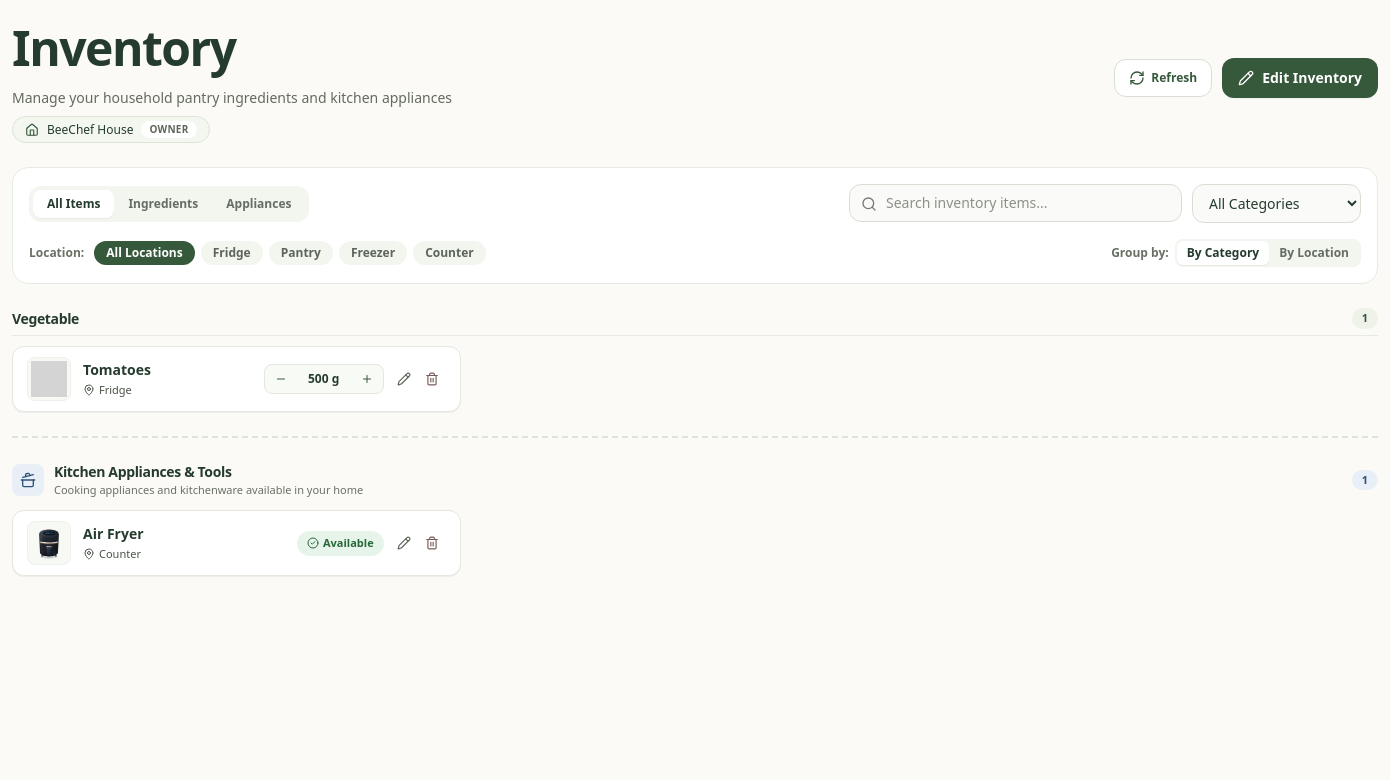
Test: InventoryPage UI and API integration › renders existing inventory items and filters by type, search, and location
Expected: the heading "Tomatoes" is shown, 83,360 -> 151,379
Expected: the heading "Air Fryer" is shown, 83,524 -> 144,543
Note: Filter by Appliances tab
Click the tab "Appliances": click(259, 204) 212,190 -> 306,218
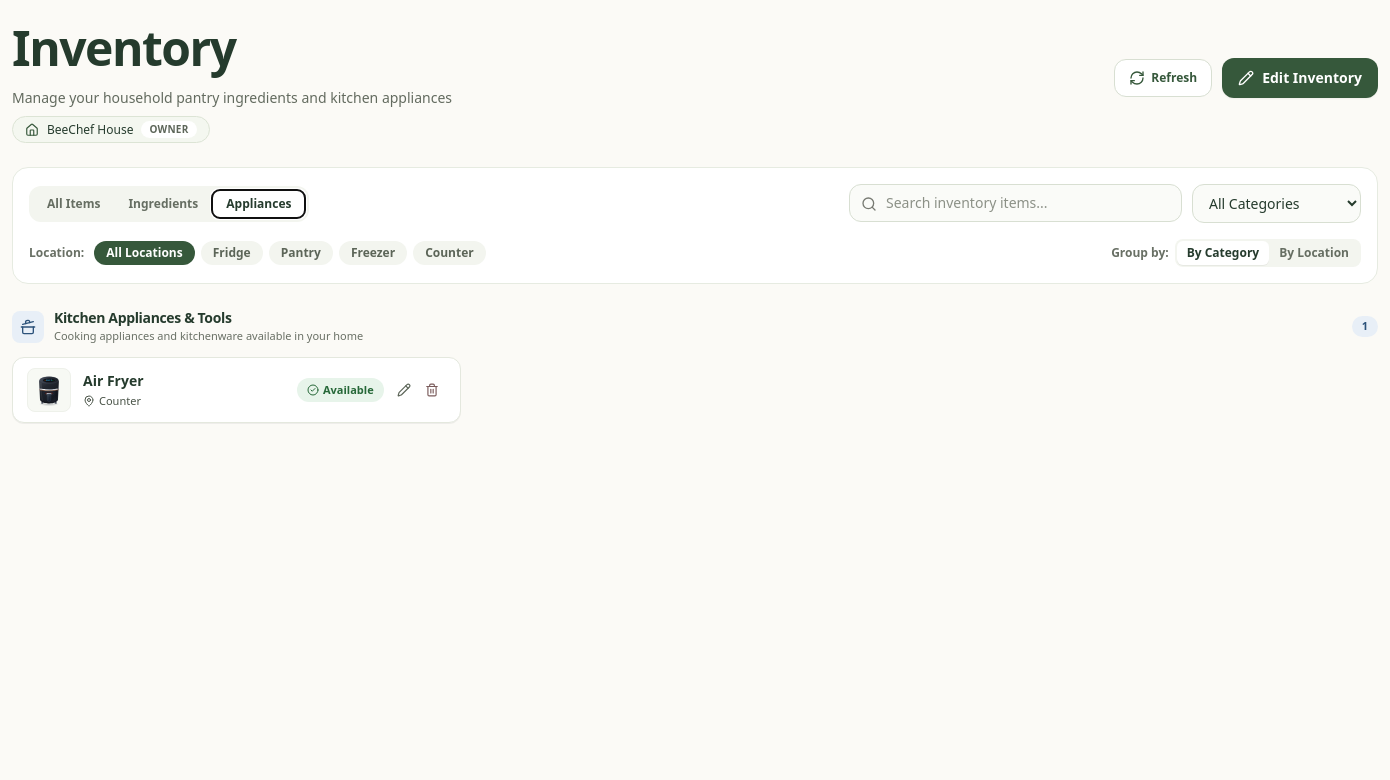
Expected: the heading "Air Fryer" is shown, 83,371 -> 144,390
Now the heading "Tomatoes" is gone
Note: Back to All Items tab
Click the tab "All Items": click(74, 204) 33,190 -> 114,218
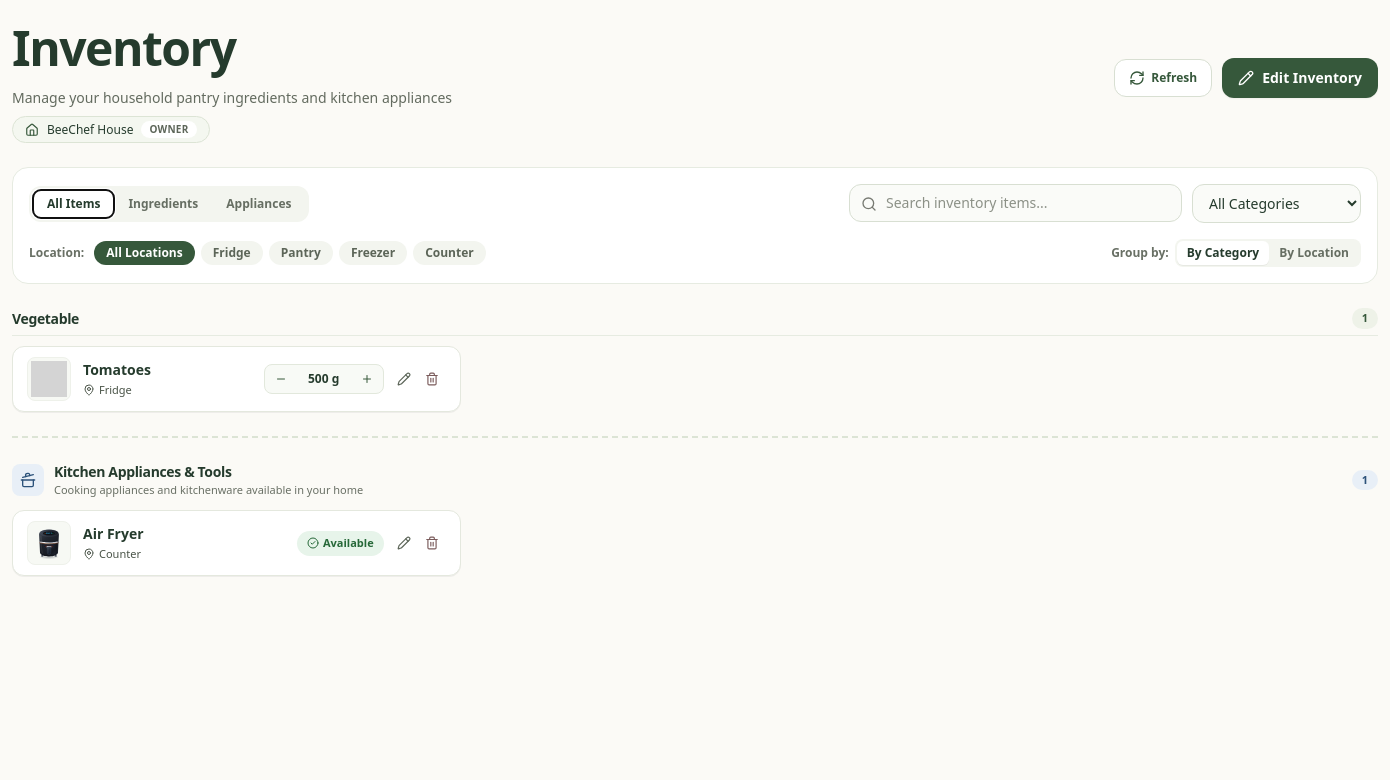
Now the heading "Tomatoes" is shown, box 83,360 -> 151,379
Note: Filter by search input
In the field labelled "Search inventory items": (1016, 203) 849,184 -> 1182,222, type "tom"
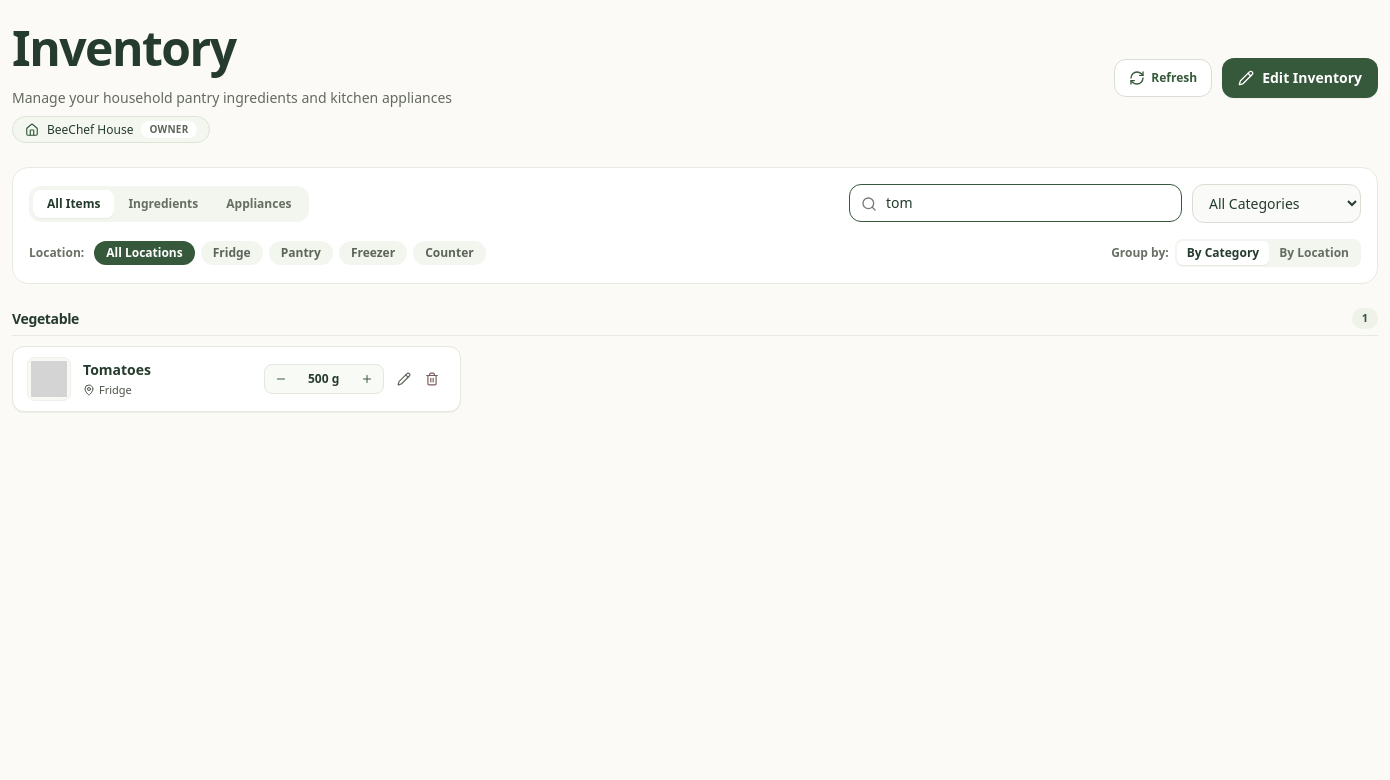
Now the heading "Tomatoes" is shown, box 83,360 -> 151,379
Now the heading "Air Fryer" is gone
Clear the field named "Search inventory items": (1016, 203) 849,184 -> 1182,222
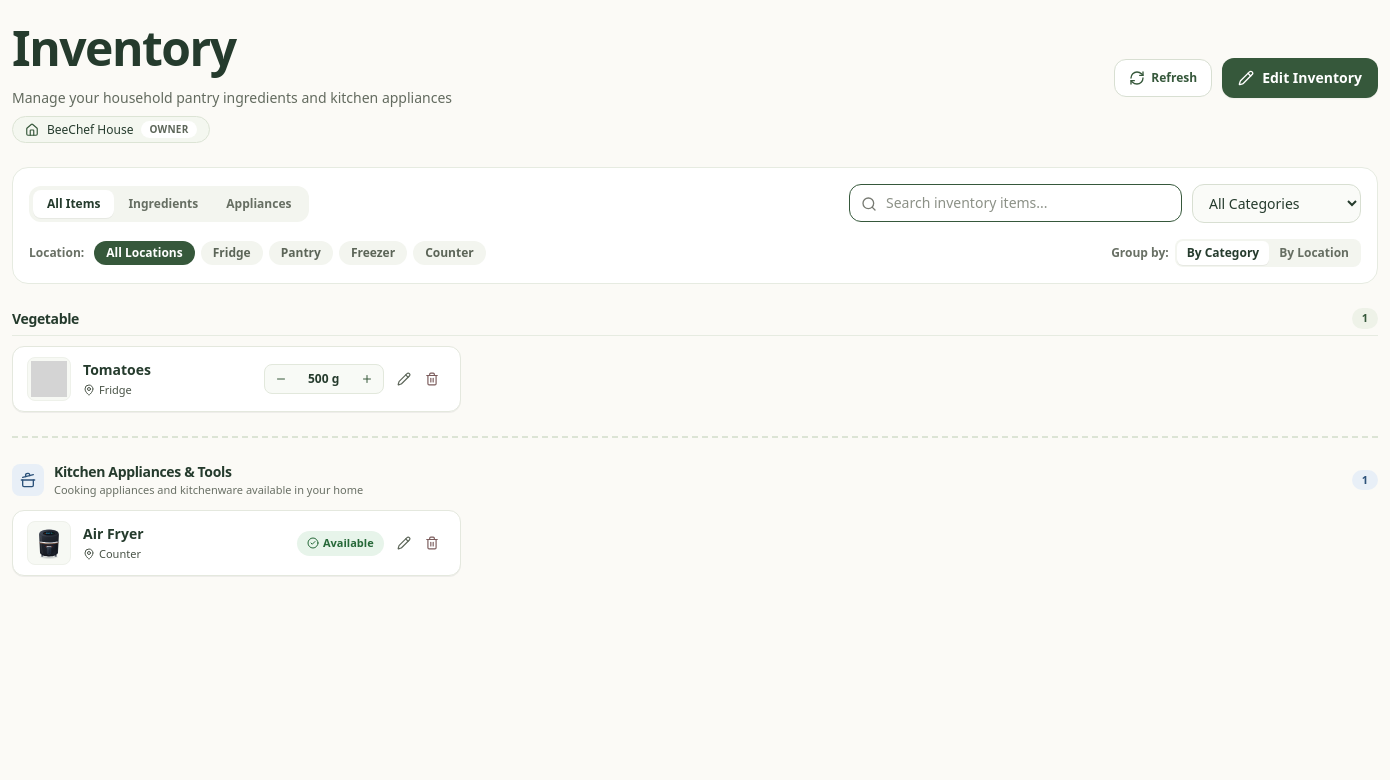
Note: Filter by storage location pill
Click the button "Counter": click(449, 253) 413,241 -> 486,265
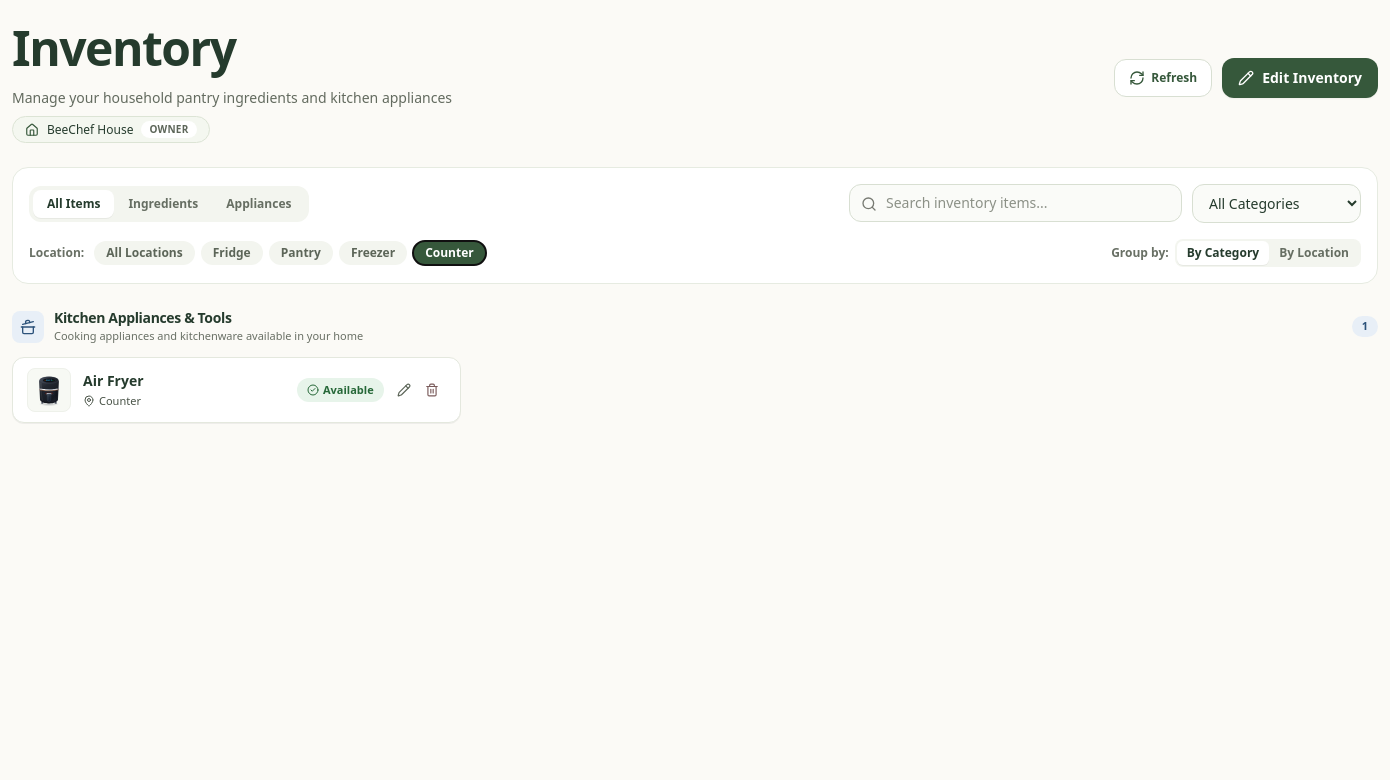
Now the heading "Air Fryer" is shown, box 83,371 -> 144,390
Now the heading "Tomatoes" is gone
